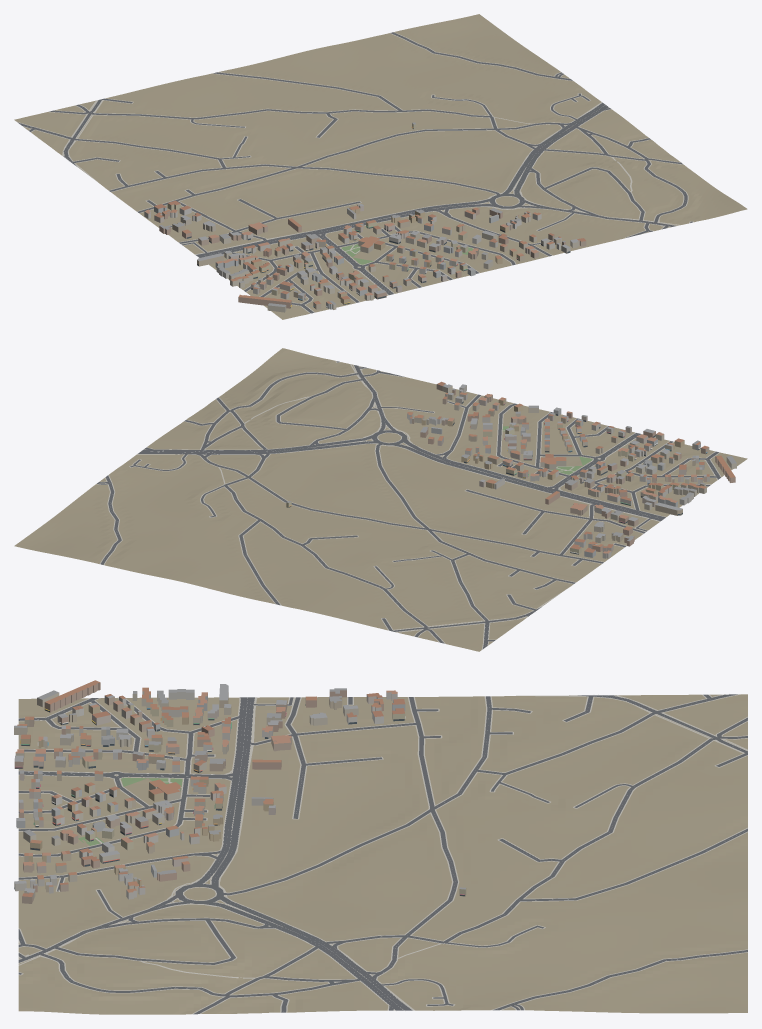
3 views of the same model, one above another, from view 1: azimuth 30°, elevation 25°; view 2: azimuth 150°, elevation 25°; view 3: azimuth 270°, elevation 25° (orthographic). The views are drawn at different scales.
Visible parts, largest first — view 1: Ground, Road, Sidewalk, Walls, Roofs; view 2: Ground, Road, Sidewalk, Walls, Roofs; view 3: Ground, Road, Sidewalk, Walls, Roofs, Detail.
Boxes of the visible parts, x1,y1,x2,y2 form: Ground: [14, 14, 747, 319]; Road: [18, 32, 692, 313]; Sidewalk: [17, 32, 693, 313]; Walls: [144, 123, 586, 312]; Roofs: [144, 122, 585, 306]; Ground: [14, 348, 747, 651]; Road: [97, 361, 720, 648]; Sidewalk: [96, 361, 721, 649]; Walls: [286, 383, 736, 558]; Roofs: [286, 381, 736, 553]; Ground: [18, 694, 747, 1014]; Road: [18, 694, 747, 1014]; Sidewalk: [18, 694, 747, 1014]; Walls: [14, 682, 466, 903]; Roofs: [14, 680, 465, 896]; Detail: [14, 704, 464, 896].
Size of the model in its own units: 1036 by 25.01 by 1006.
